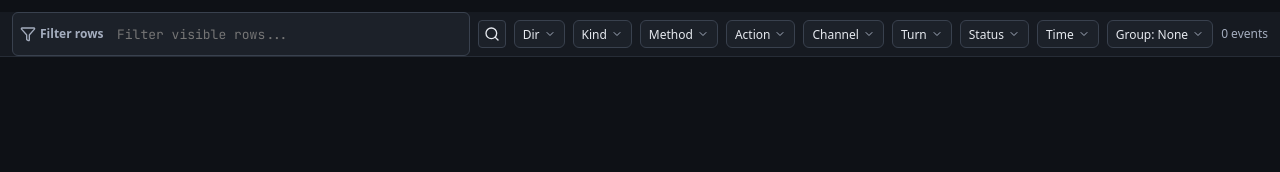
Test case: FilterBar › closes an open facet popover when its chip is clicked again
The width and height of the screenshot is (1280, 172).
Click the button "Dir". click: (539, 34)
box: [514,20,564,48]
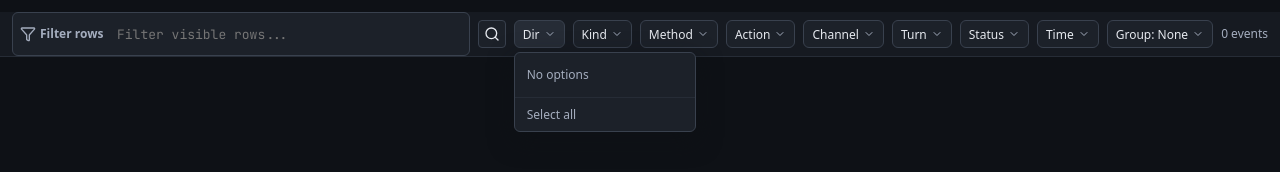
Expected: the list is shown, [514,52,696,132]
Click the button "Dir". click: (539, 34)
box: [514,20,564,48]
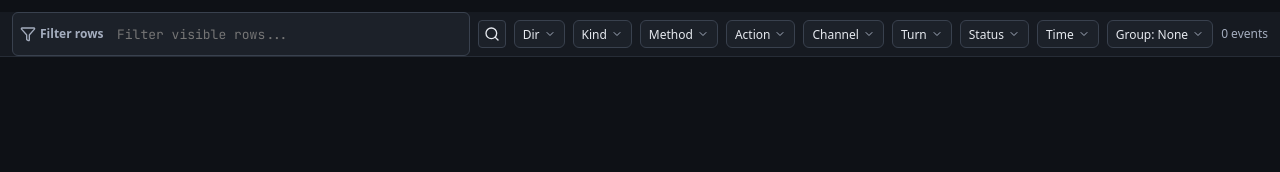
Expected: the list is gone
